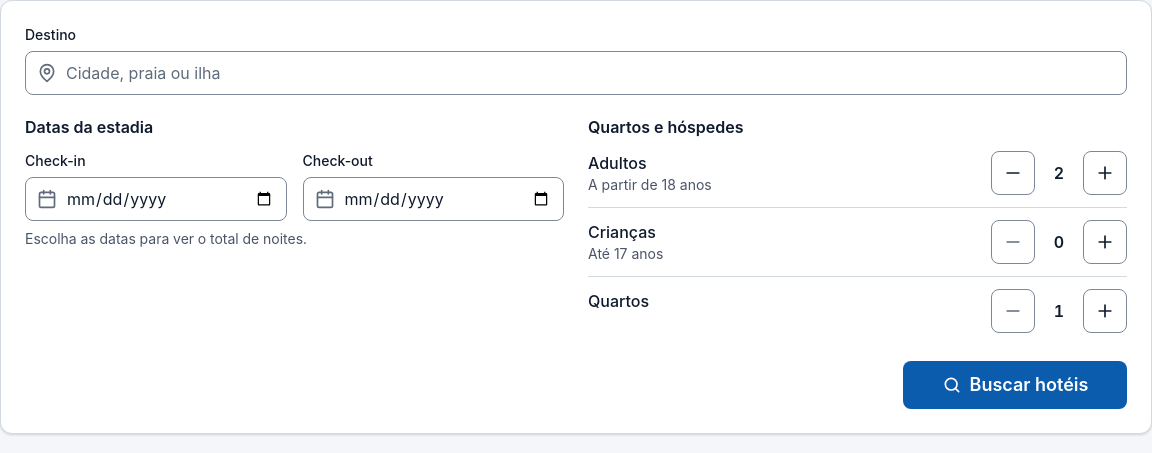
Test: SearchForm: clique em botão com o destino digitado e não escolhido › 'Limpar destino': mousedown não tira o foco e nenhum erro aparece
Type "flor" into the dropdown labelled "Destino" at (576, 73), box 25,51 -> 1127,95
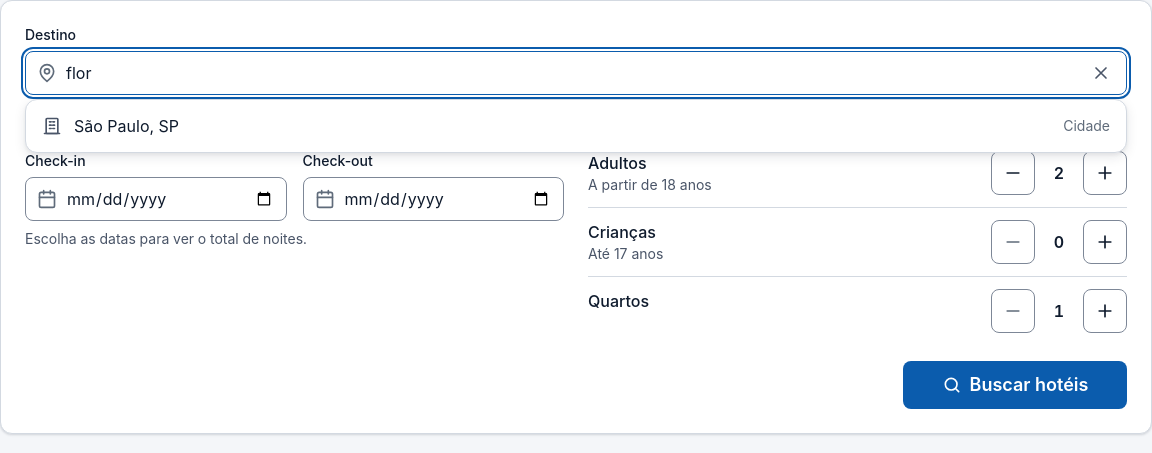
Press the mouse on the button named "Limpar destino" at (1101, 73), box 1079,51 -> 1123,95
Click the button named "Limpar destino" at (1101, 73), box 1079,51 -> 1123,95
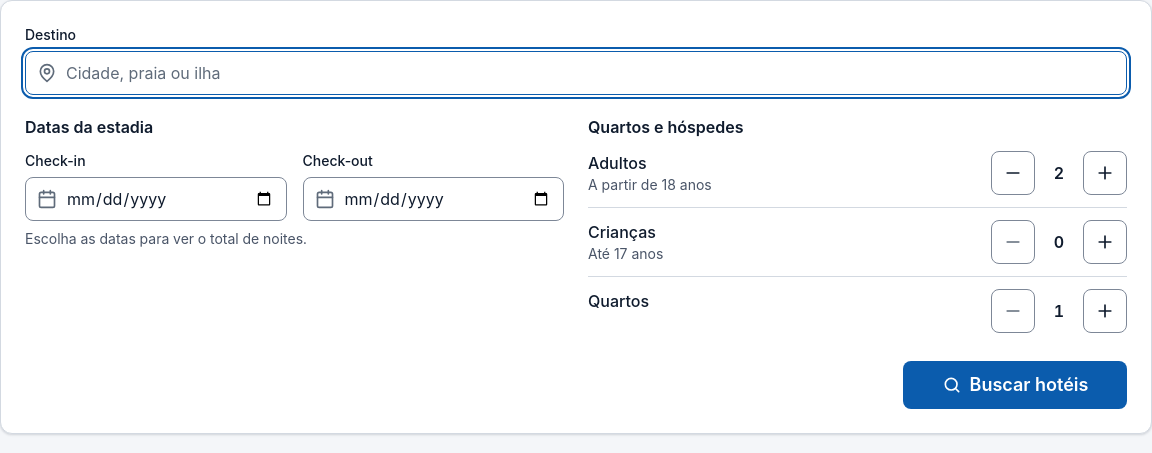
Result: the dropdown labelled "Destino" is empty at 25,51 -> 1127,95
